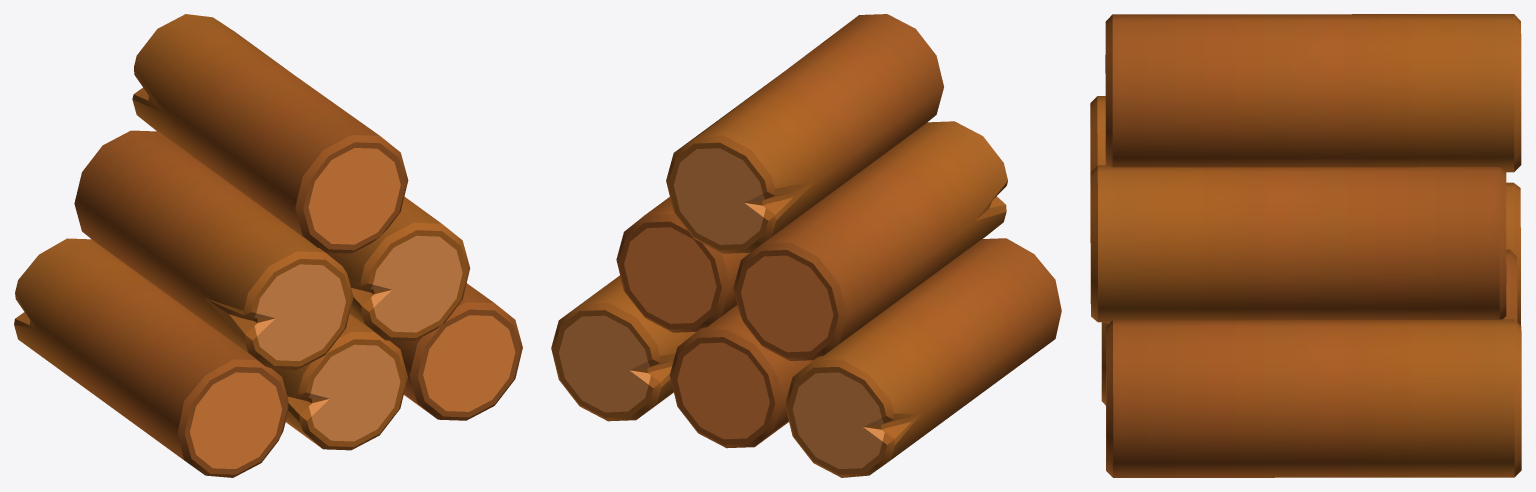
File: hay-forest-8.glb
The picture shows the model from 3 angles, left to right: view 1: azimuth 30°, elevation 25°; view 2: azimuth 150°, elevation 25°; view 3: azimuth 270°, elevation 25°; orthographic projection. The views are drawn at different scales.
Parts seen in each view (by area): view 1: piece; view 2: piece; view 3: piece.
Boxes of the visible parts, bbox=[...] form: piece: bbox=[14, 14, 522, 477]; piece: bbox=[551, 14, 1061, 477]; piece: bbox=[1090, 14, 1521, 477].
Size of the model in its own units: 1.4 by 1.21 by 1.24.
Materials: 1 (1 with a texture image).
